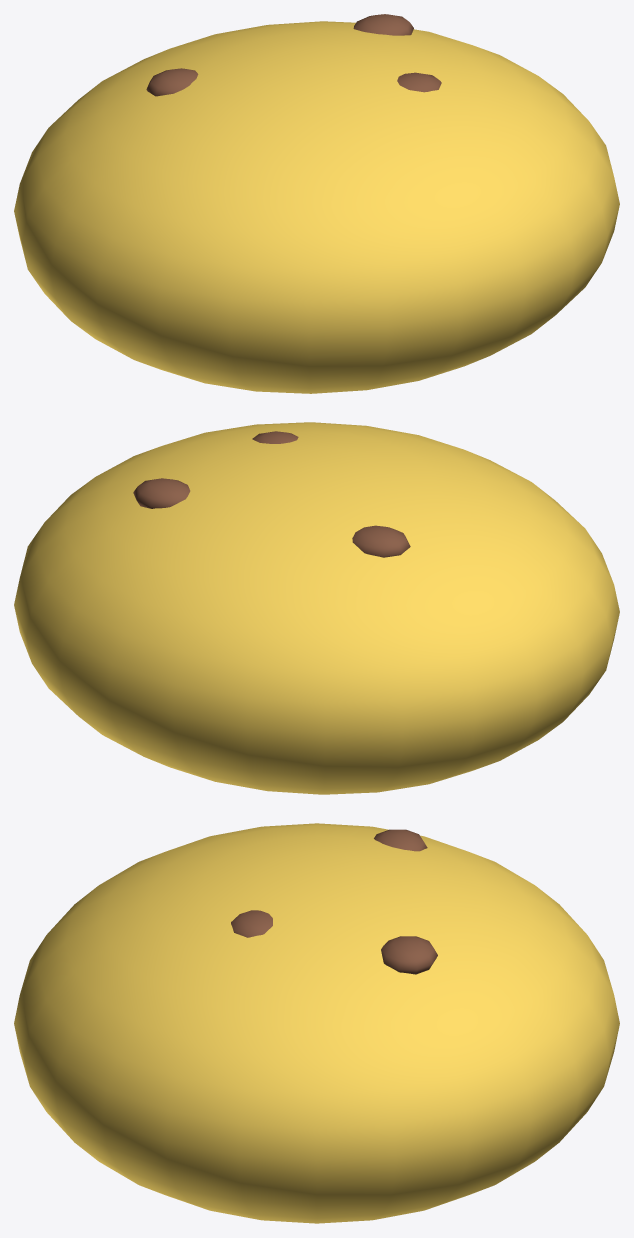
File: weapon_cookie.glb
3 renders of one model, top to bottom at view 1: azimuth 30°, elevation 25°; view 2: azimuth 150°, elevation 25°; view 3: azimuth 270°, elevation 25°, orthographic. The views are drawn at different scales.
Visible parts, largest first — view 1: weapon_cookie; view 2: weapon_cookie; view 3: weapon_cookie.
Boxes of the visible parts, x1=… form: weapon_cookie: x1=14, y1=14, x2=619, y2=393; weapon_cookie: x1=14, y1=422, x2=619, y2=794; weapon_cookie: x1=14, y1=823, x2=619, y2=1223.
Bounding box in the file's own units: 0.64 × 0.32 × 0.6.
